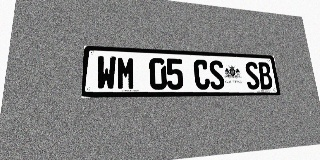0: (149, 58, 167, 90)
5: (166, 58, 184, 90)
B: (257, 62, 273, 89)
C: (193, 59, 210, 90)
M: (117, 56, 135, 90)
S: (208, 60, 225, 90), (244, 61, 261, 89)
W: (96, 56, 116, 90)
